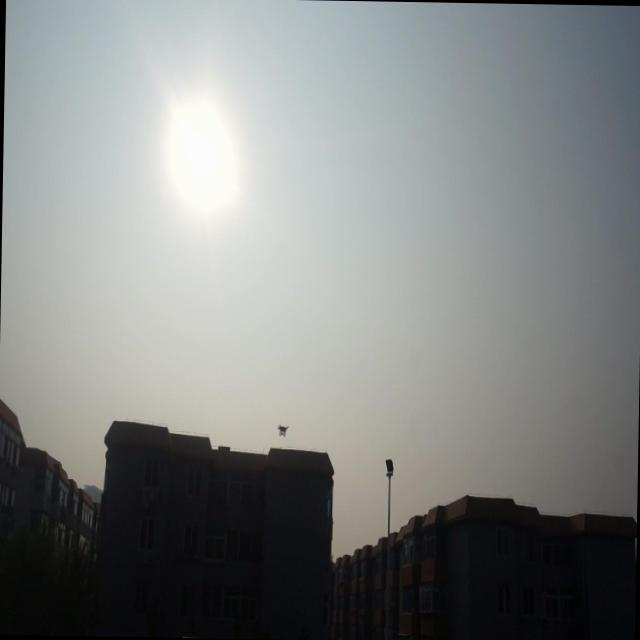drone: (274, 421, 290, 438)
